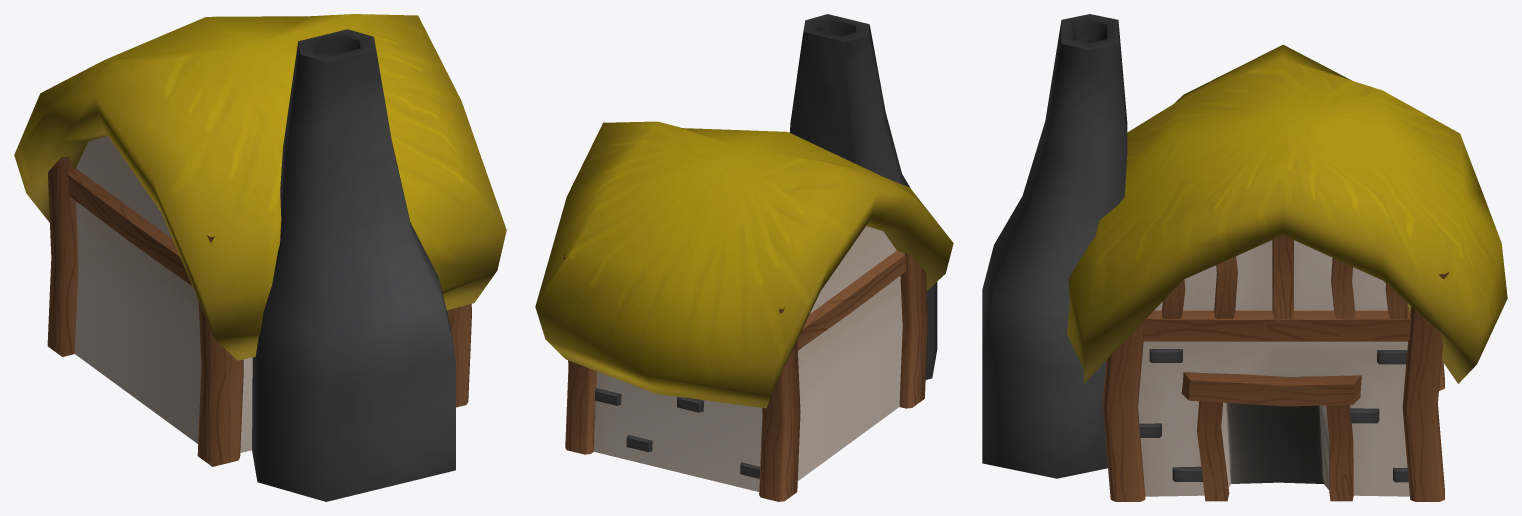
File: export huisje 1.fbx
The picture shows the model from 3 angles, left to right: view 1: azimuth 30°, elevation 25°; view 2: azimuth 150°, elevation 25°; view 3: azimuth 270°, elevation 25°; orthographic projection. The views are drawn at different scales.
Visible parts, largest first — view 1: huisje_1; view 2: huisje_1; view 3: huisje_1.
Part boxes in pixels (x1,y1,x2,y2): huisje_1: [14, 14, 506, 501]; huisje_1: [535, 14, 953, 501]; huisje_1: [982, 14, 1507, 501].
Size of the model in its own units: 10.73 by 12.68 by 15.09.
1 material, 1 textured.
